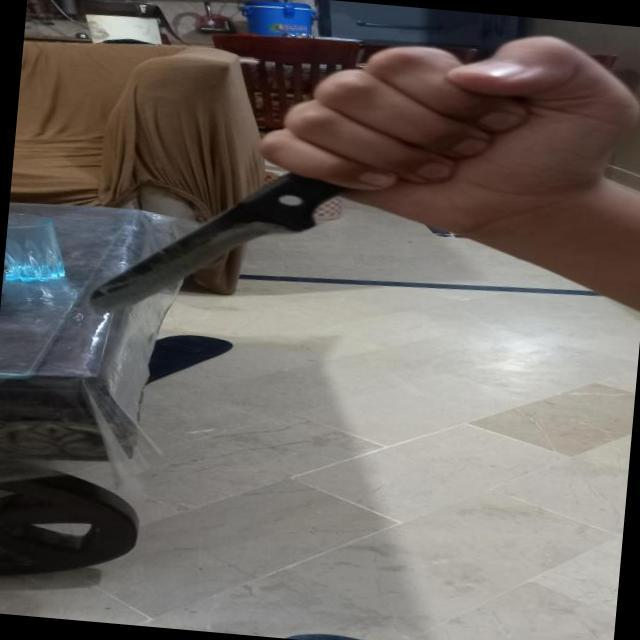Knife: (93, 48, 501, 343)
